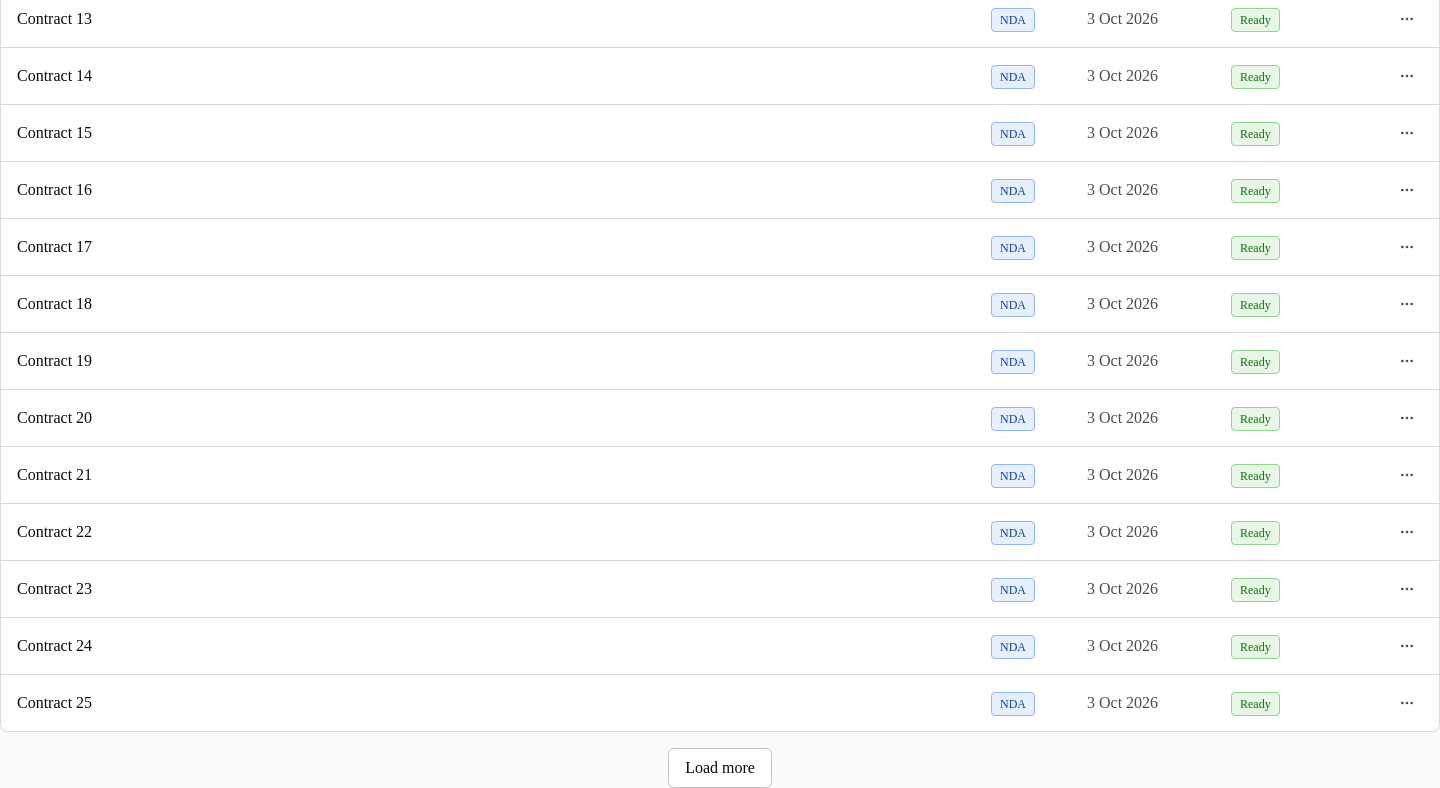
ContractsTable › keeps loaded rows and offers a retry when loading more fails
This screenshot has width=1440, height=788.
(page scrolled)
Click the button "Load more". click: (720, 768)
box: [668,748,772,787]
(page scrolled)
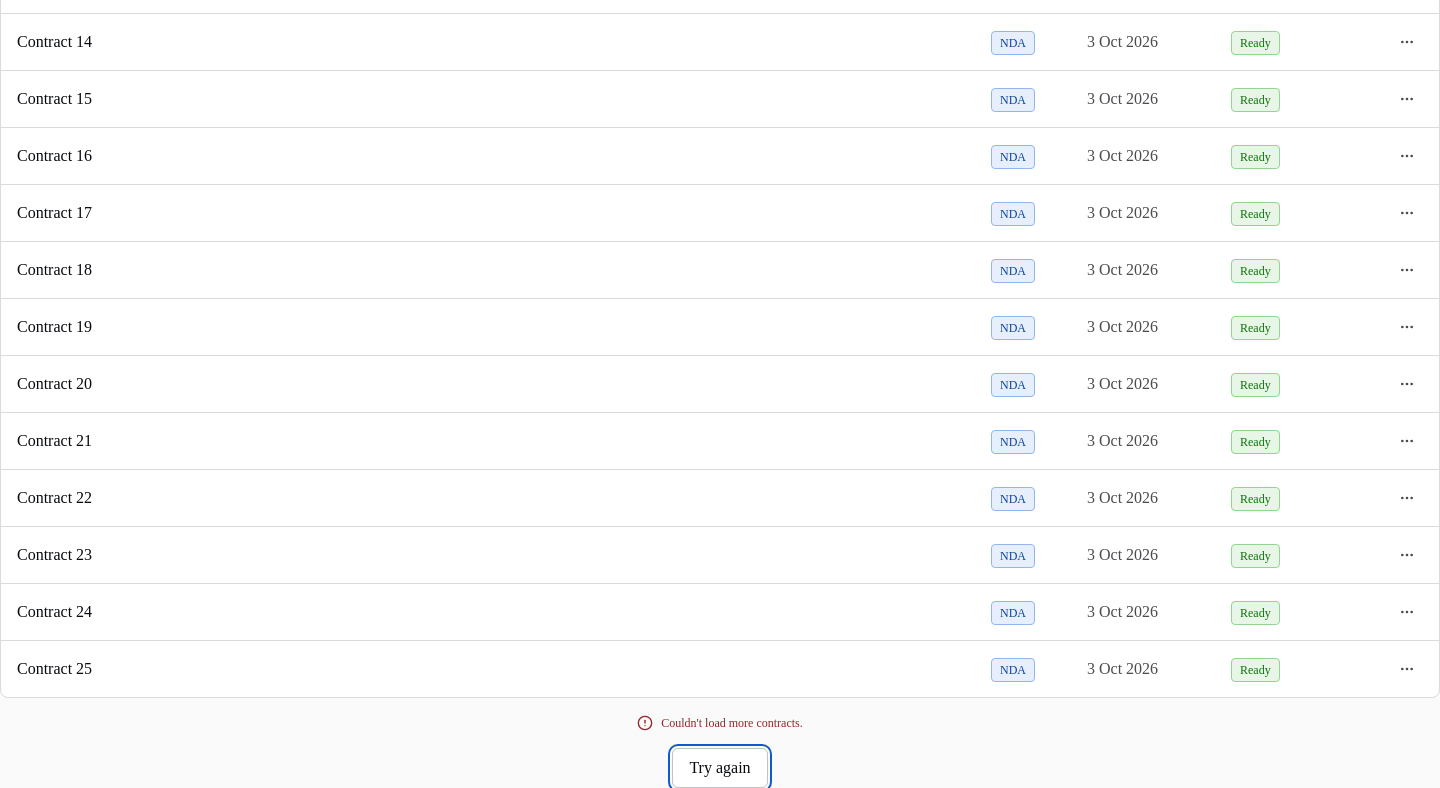
expect the text "Couldn't load more contracts." is shown: met, box [637,715,803,731]
expect the button "Try again" is shown: met, box [672,748,768,787]
